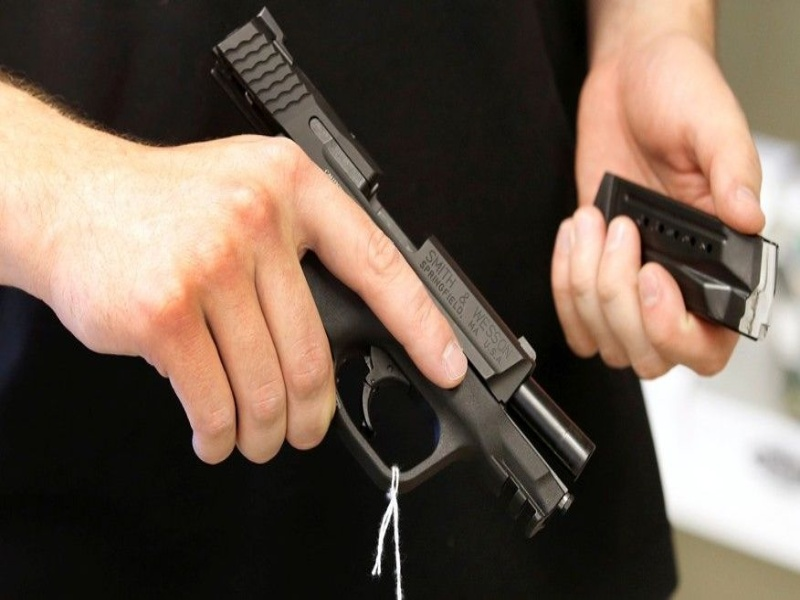gun: (199, 9, 592, 535)
